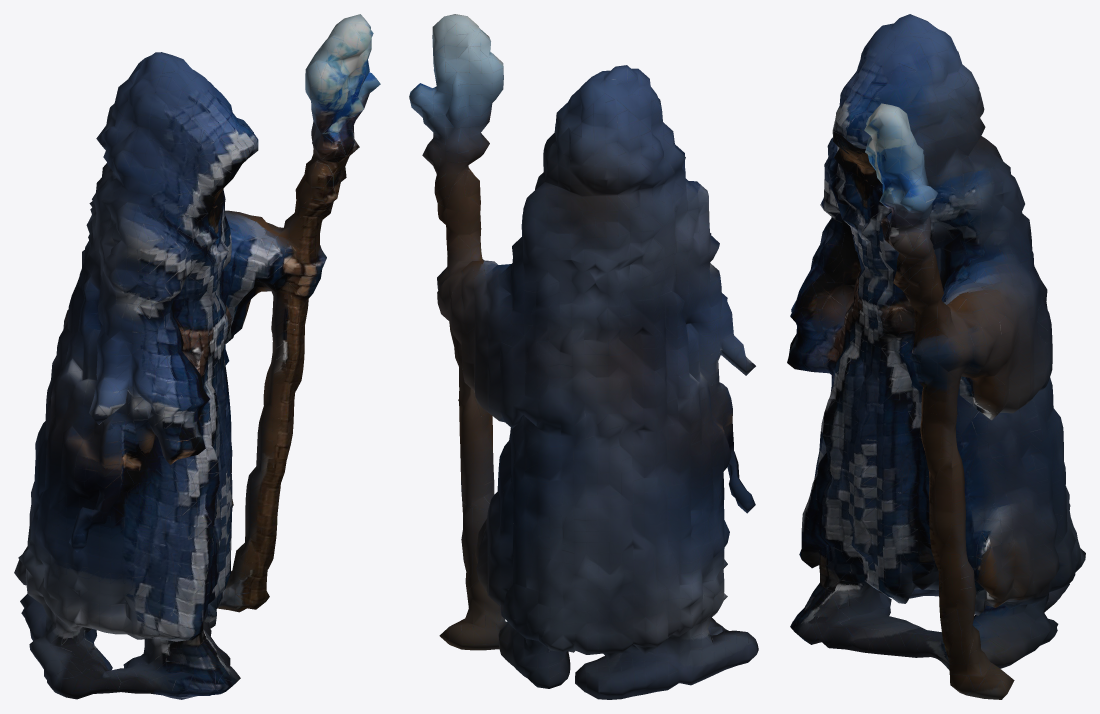
File: hero_mage.glb
3 renders of one model, left to right at view 1: azimuth 30°, elevation 25°; view 2: azimuth 150°, elevation 25°; view 3: azimuth 270°, elevation 25°, orthographic. The views are drawn at different scales.
Parts seen in each view (by area): view 1: hero_mage; view 2: hero_mage; view 3: hero_mage.
Part boxes in pixels (x1=…): hero_mage: x1=14, y1=14, x2=380, y2=699; hero_mage: x1=409, y1=14, x2=758, y2=699; hero_mage: x1=787, y1=14, x2=1085, y2=699.
Size of the model in its own units: 0.5889 by 1 by 0.4335.
1 material, 1 textured.
